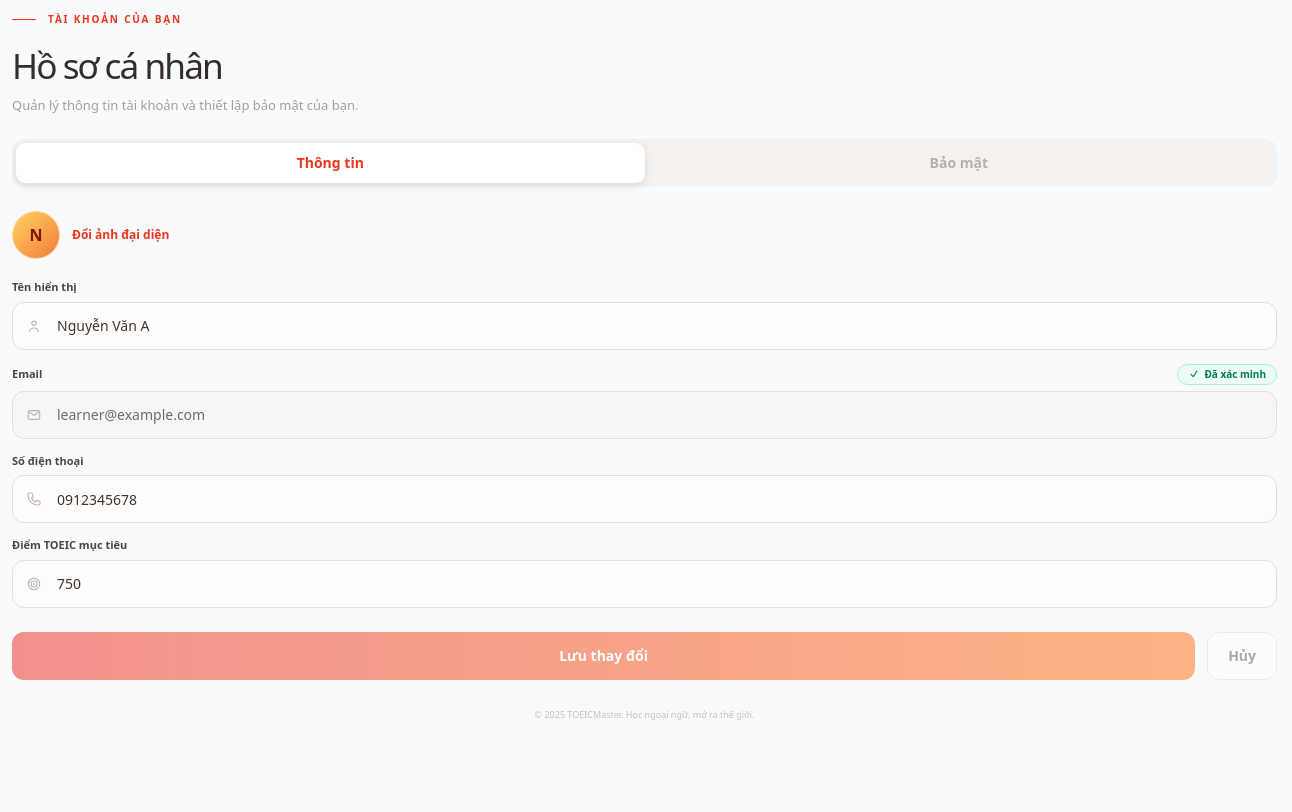
Test: ProfilePanel › không hiện form đổi mật khẩu cho tài khoản chỉ đăng nhập Google
Step 1. Click the button "Bảo mật" → [959, 163], box [644,143,1273,183]
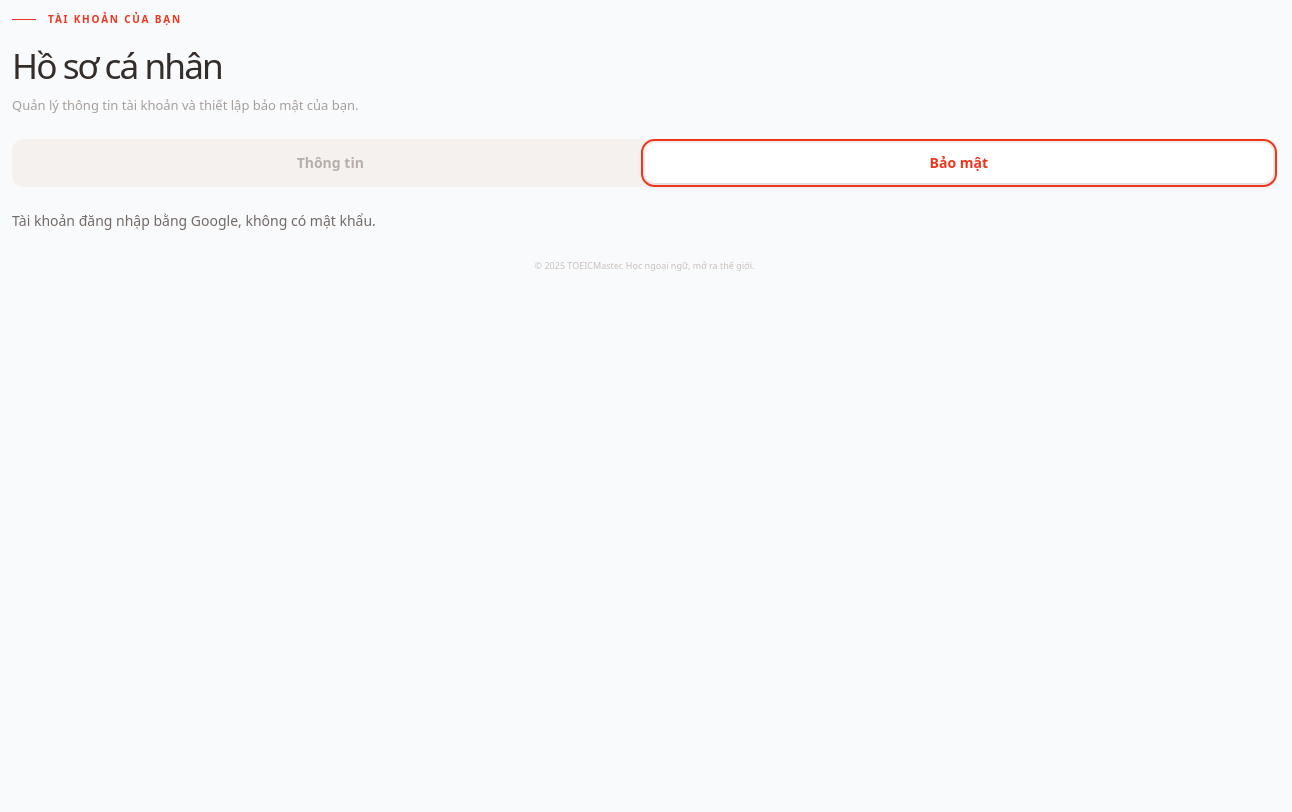
expect the text "Tài khoản đăng nhập bằng Google, không có mật khẩu." is shown: met, box [12,211,376,230]
